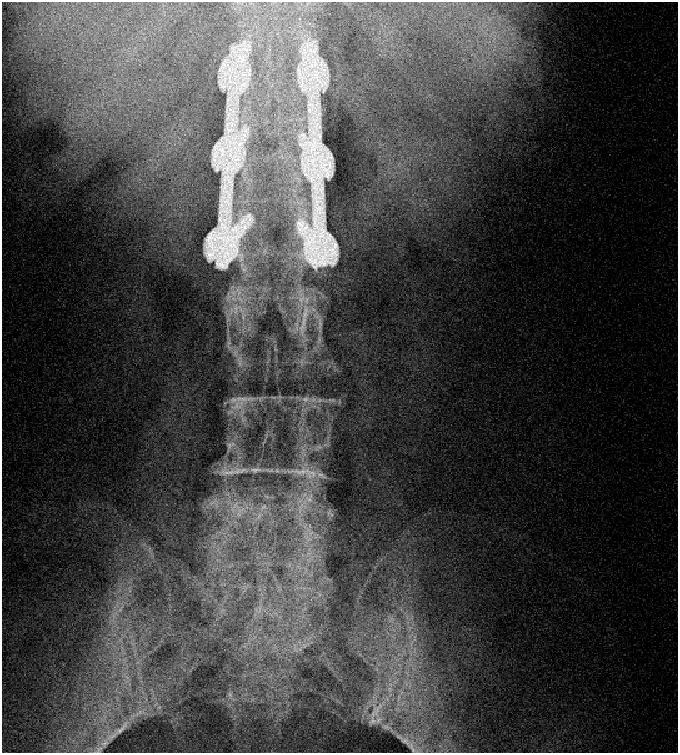lumbar scoliosis: (204, 168, 355, 595)
